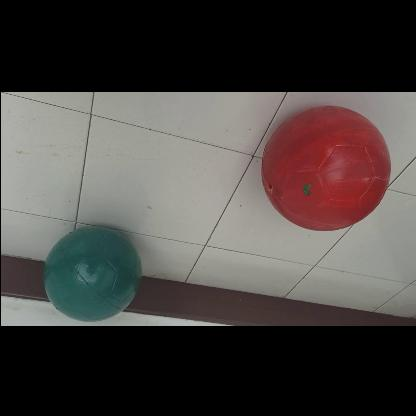green_ball: (41, 224, 139, 322)
